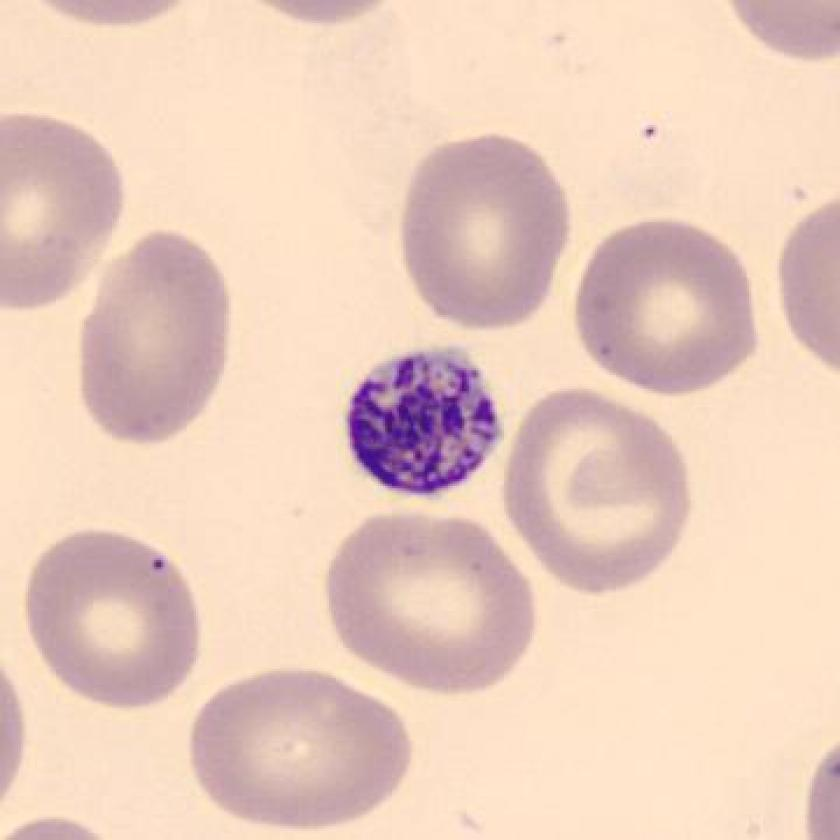platelets: (335, 332, 512, 512)
